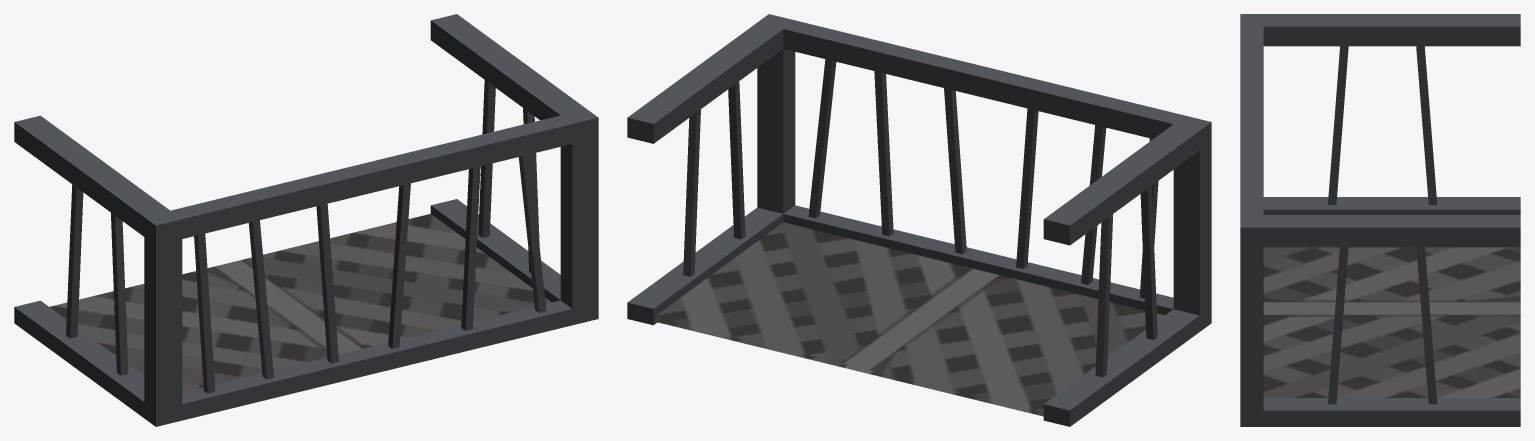
File: Balcony_F2.fbx
3 views of the same model, side by side, from view 1: azimuth 30°, elevation 25°; view 2: azimuth 150°, elevation 25°; view 3: azimuth 270°, elevation 25° (orthographic).
Parts seen in each view (by area): view 1: Balcony_F2; view 2: Balcony_F2; view 3: Balcony_F2.
Boxes of the visible parts, x1,y1,x2,y2 form: Balcony_F2: (14,14,598,426); Balcony_F2: (627,14,1211,426); Balcony_F2: (1240,14,1520,426).
Bounding box in the file's own units: 83.69 × 36.38 × 46.37.
Materials: 1 (1 with a texture image).
